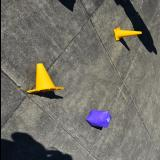cone: (26, 63, 64, 93), (112, 27, 142, 41)
cube: (84, 110, 112, 128)
